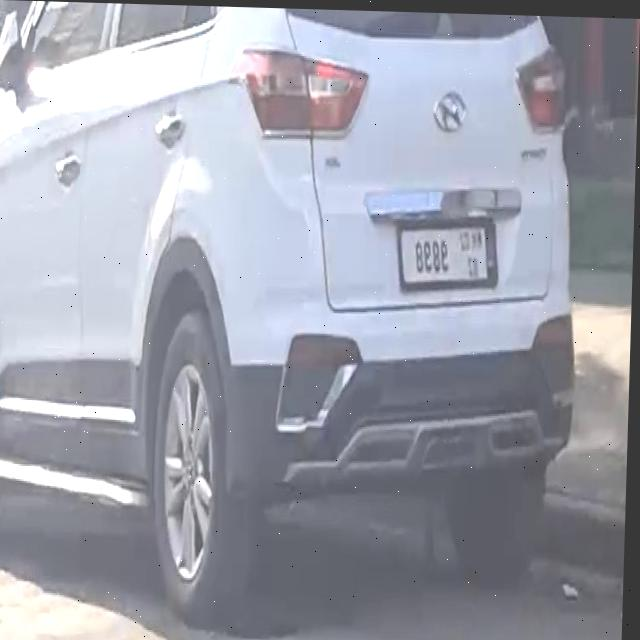plate: (397, 213, 501, 292)
